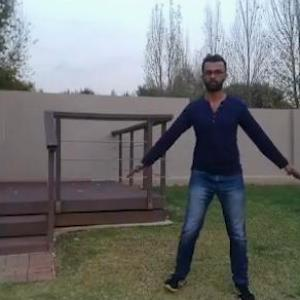land: (130, 53, 300, 299)
